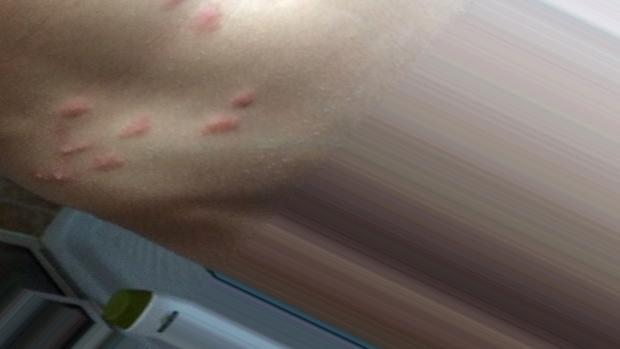Fleas: (191, 1, 224, 38), (55, 95, 93, 120), (200, 112, 240, 135), (91, 153, 128, 174), (25, 171, 75, 186), (118, 119, 152, 138), (58, 135, 87, 157), (231, 90, 255, 108)
